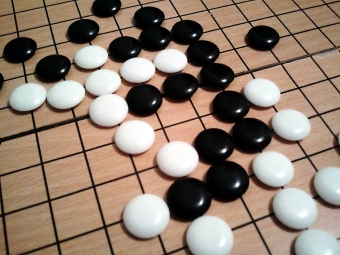black: (194, 128, 234, 163), (126, 83, 163, 117), (108, 36, 142, 63), (246, 25, 280, 51), (66, 19, 100, 44)
crossing: (83, 177, 107, 196), (26, 120, 48, 140), (274, 55, 292, 73), (68, 111, 84, 129)
white: (251, 150, 295, 188), (114, 119, 156, 157), (243, 78, 282, 109), (72, 44, 110, 71), (154, 47, 189, 74)
